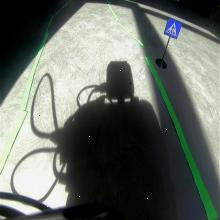crosswalk: (164, 17, 182, 39)
